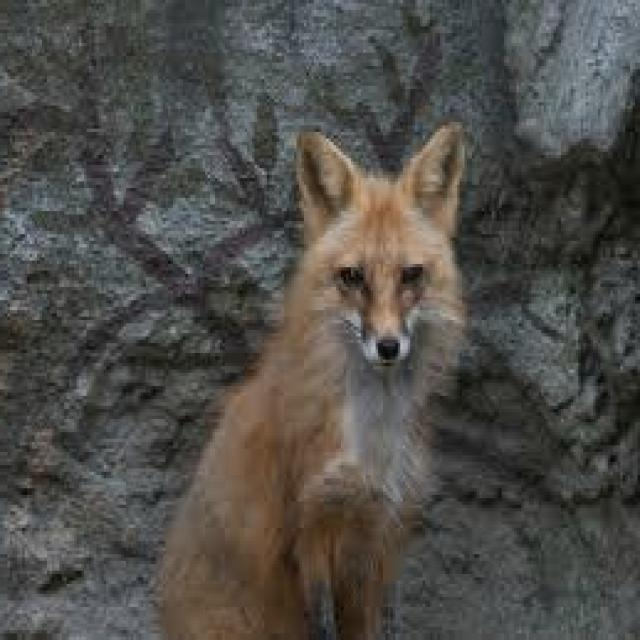fox: (161, 122, 467, 637)
